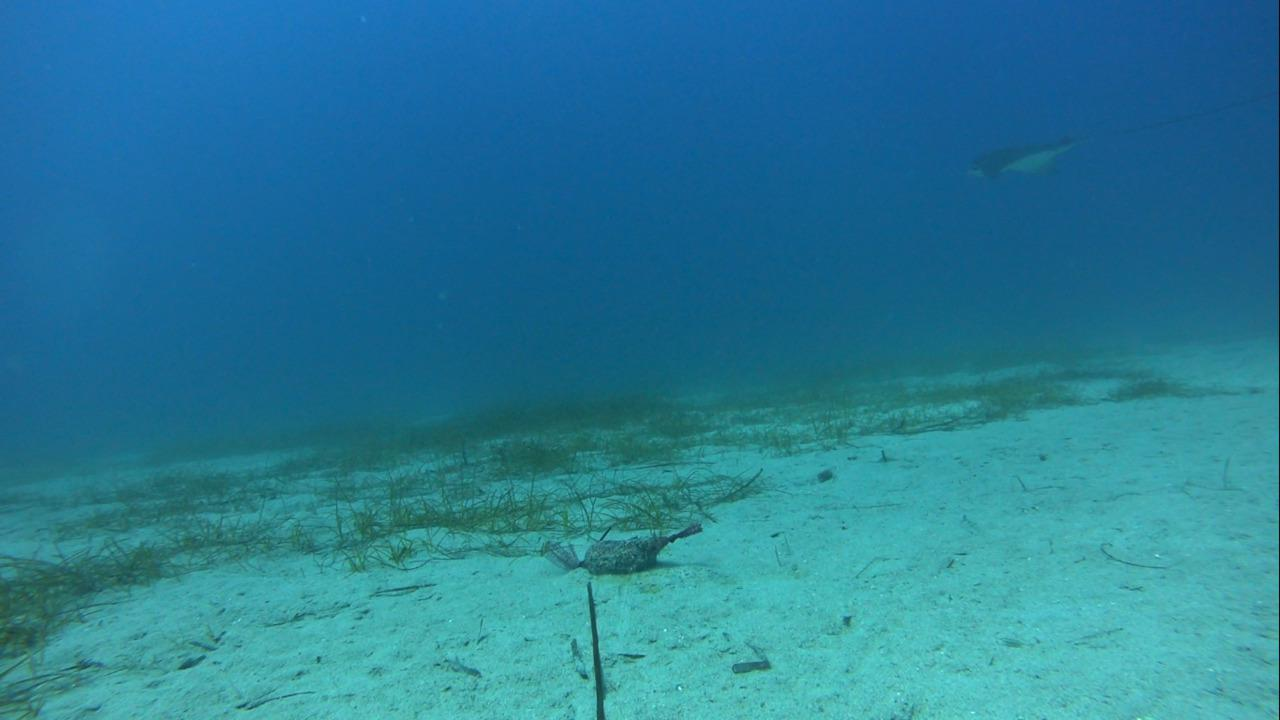myliobatis: (957, 97, 1267, 180)
